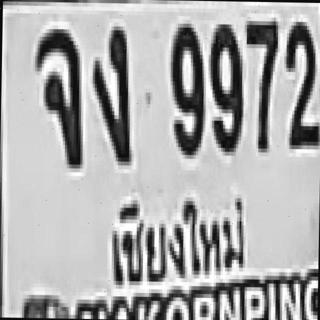A07: (89, 22, 132, 161)
A08: (31, 25, 82, 164)
N02: (282, 20, 320, 144)
N07: (242, 17, 276, 148)
N09: (168, 19, 203, 155), (207, 20, 242, 152)
P11: (98, 183, 255, 285)
